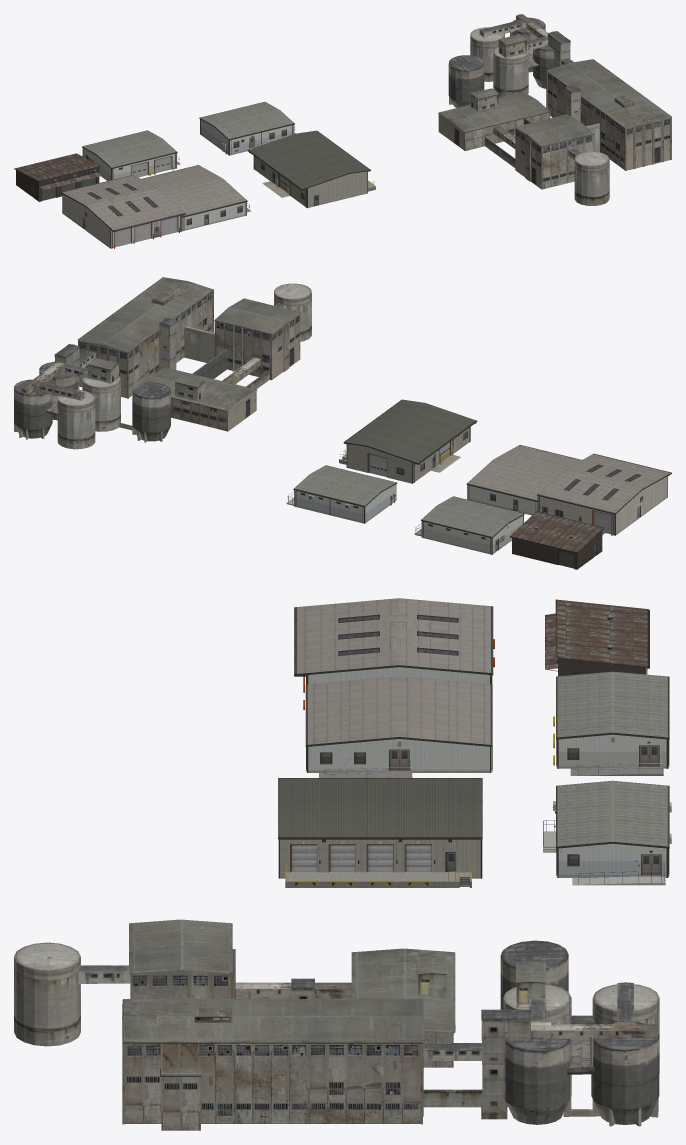
Rendered from port area building.fbx.
3 views of the same model, one above another, from view 1: azimuth 30°, elevation 25°; view 2: azimuth 150°, elevation 25°; view 3: azimuth 270°, elevation 25° (orthographic). The views are drawn at different scales.
Visible parts, largest first — view 1: model_1, model_2, model_6, model_5, model_1.001, model_4; view 2: model_1, model_2, model_6, model_5, model_1.001, model_4; view 3: model_1, model_2, model_6, model_5, model_1.001, model_4.
Boxes of the visible parts, x1,y1,x2,y2 form: model_1: (438, 14, 671, 205); model_2: (61, 165, 251, 248); model_6: (247, 130, 375, 208); model_5: (199, 102, 295, 155); model_1.001: (82, 130, 180, 180); model_4: (14, 153, 101, 201); model_1: (14, 277, 311, 449); model_2: (466, 445, 671, 535); model_6: (339, 399, 477, 483); model_5: (286, 465, 397, 523); model_1.001: (414, 496, 524, 554); model_4: (510, 511, 605, 569); model_1: (14, 919, 659, 1130); model_2: (294, 598, 494, 777); model_6: (278, 778, 482, 887); model_5: (543, 780, 671, 885); model_1.001: (553, 671, 669, 775); model_4: (545, 599, 649, 676).
Size of the model in its own units: 5815 by 590 by 3300.
Materials: 1 (1 with a texture image).
